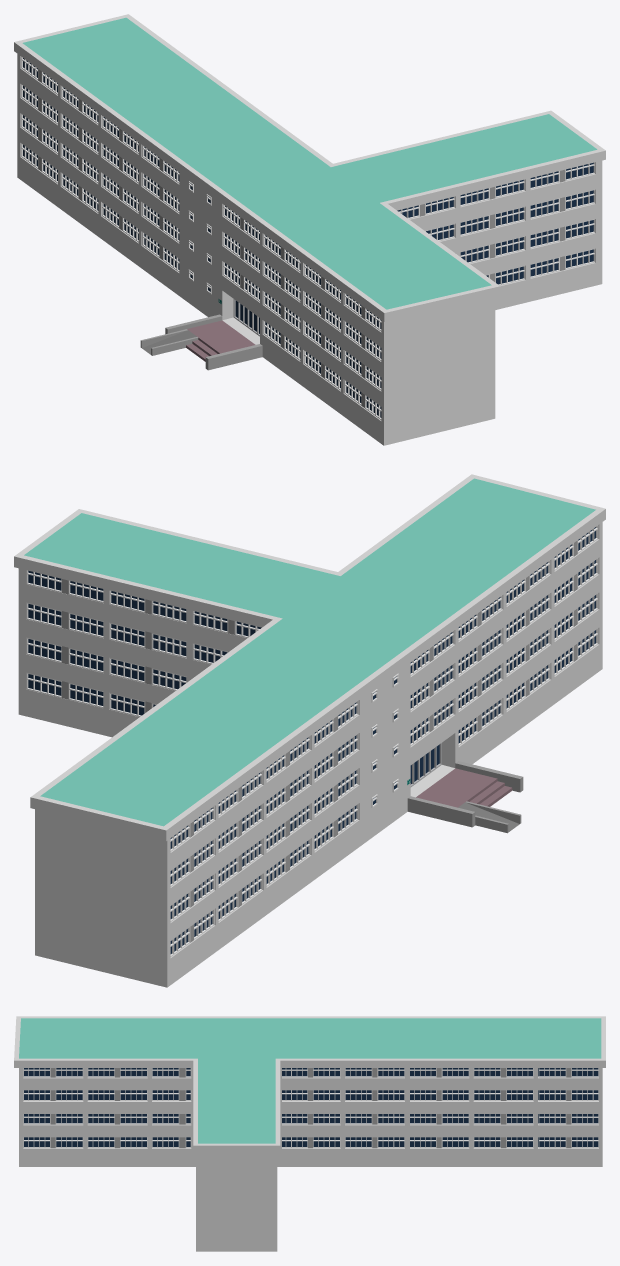
File: Building_F.fbx
3 renders of one model, top to bottom at view 1: azimuth 30°, elevation 25°; view 2: azimuth 150°, elevation 25°; view 3: azimuth 270°, elevation 25°, orthographic. The views are drawn at different scales.
Parts seen in each view (by area): view 1: Building_F; view 2: Building_F; view 3: Building_F.
Boxes of the visible parts, <box> form: Building_F: <box>14,14,605,445</box>; Building_F: <box>14,474,605,987</box>; Building_F: <box>14,1016,605,1251</box>.
Bounding box in the file's own units: 45.78 × 14.21 × 71.35.
